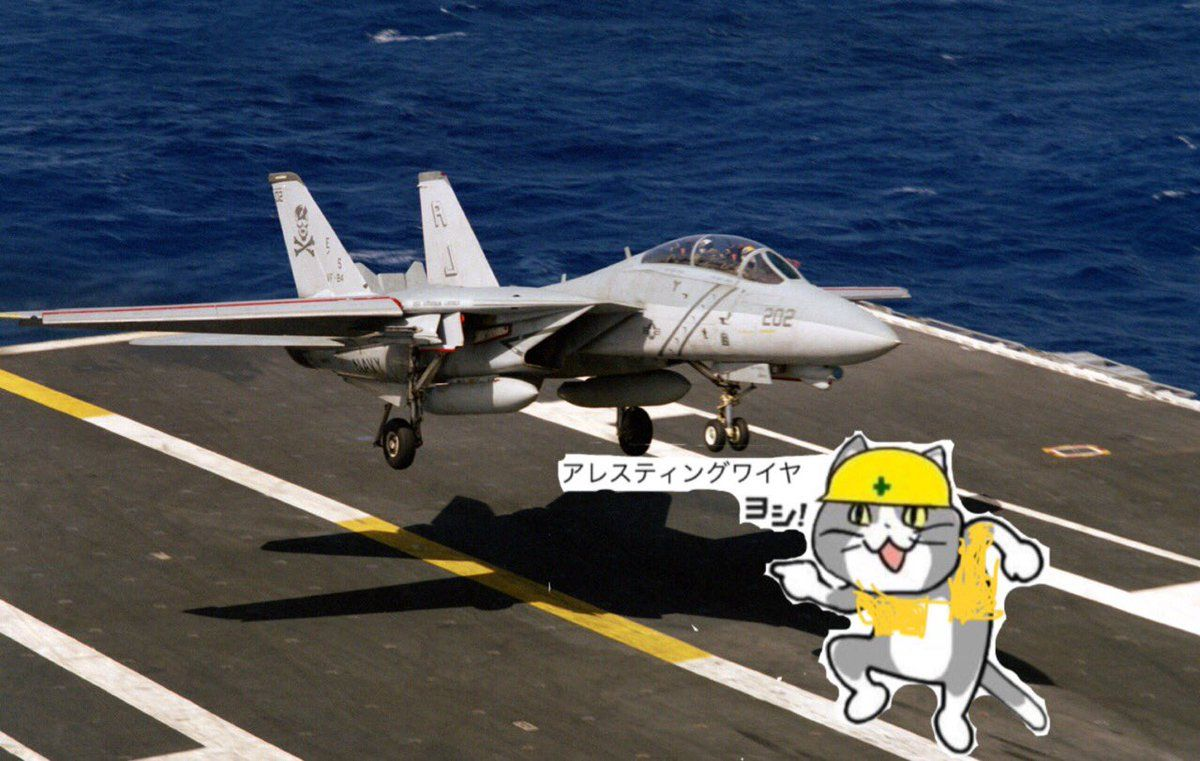F14: (1, 171, 913, 471)
